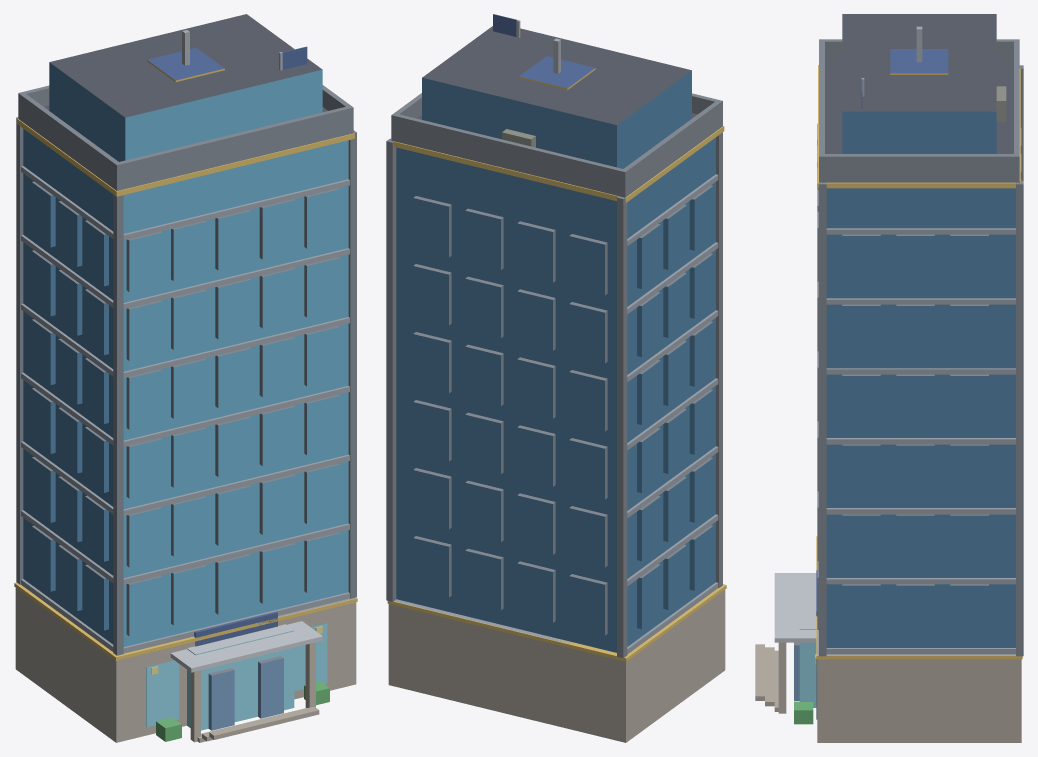
File: Corporation.fbx
The picture shows the model from 3 angles, left to right: view 1: azimuth 30°, elevation 25°; view 2: azimuth 150°, elevation 25°; view 3: azimuth 270°, elevation 25°; orthographic projection. The views are drawn at different scales.
Visible parts, largest first — view 1: Corporation; view 2: Corporation; view 3: Corporation.
Part boxes in pixels (x1=…): Corporation: x1=14, y1=14, x2=357, y2=742; Corporation: x1=386, y1=14, x2=726, y2=742; Corporation: x1=755, y1=14, x2=1023, y2=742.
Bounding box in the file's own units: 1475 × 3750 × 1390.
